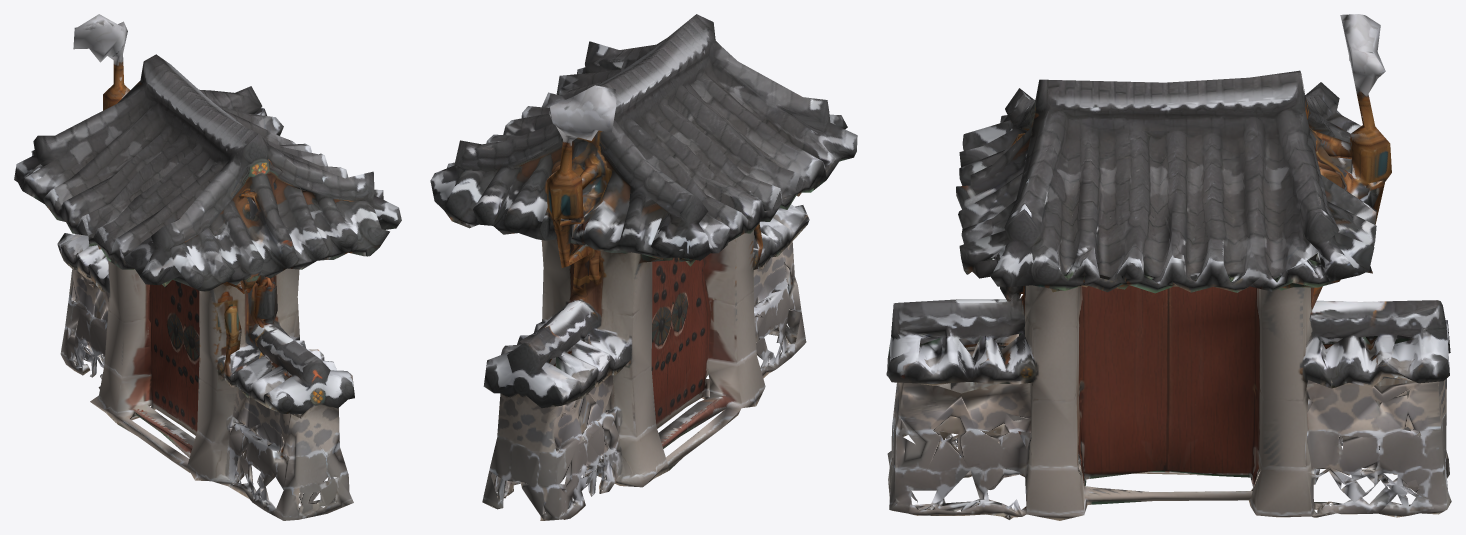
The model's file is PR_PalaceSideGate.fbx.
3 renders of one model, left to right at view 1: azimuth 30°, elevation 25°; view 2: azimuth 150°, elevation 25°; view 3: azimuth 270°, elevation 25°, orthographic. The views are drawn at different scales.
Parts seen in each view (by area): view 1: texture_mapping; view 2: texture_mapping; view 3: texture_mapping.
Boxes of the visible parts, x1,y1,x2,y2 form: texture_mapping: [14, 14, 401, 520]; texture_mapping: [430, 14, 857, 520]; texture_mapping: [886, 14, 1451, 520].
Bounding box in the file's own units: 0.6422 × 0.9868 × 0.896.
Materials: 1 (1 with a texture image).
